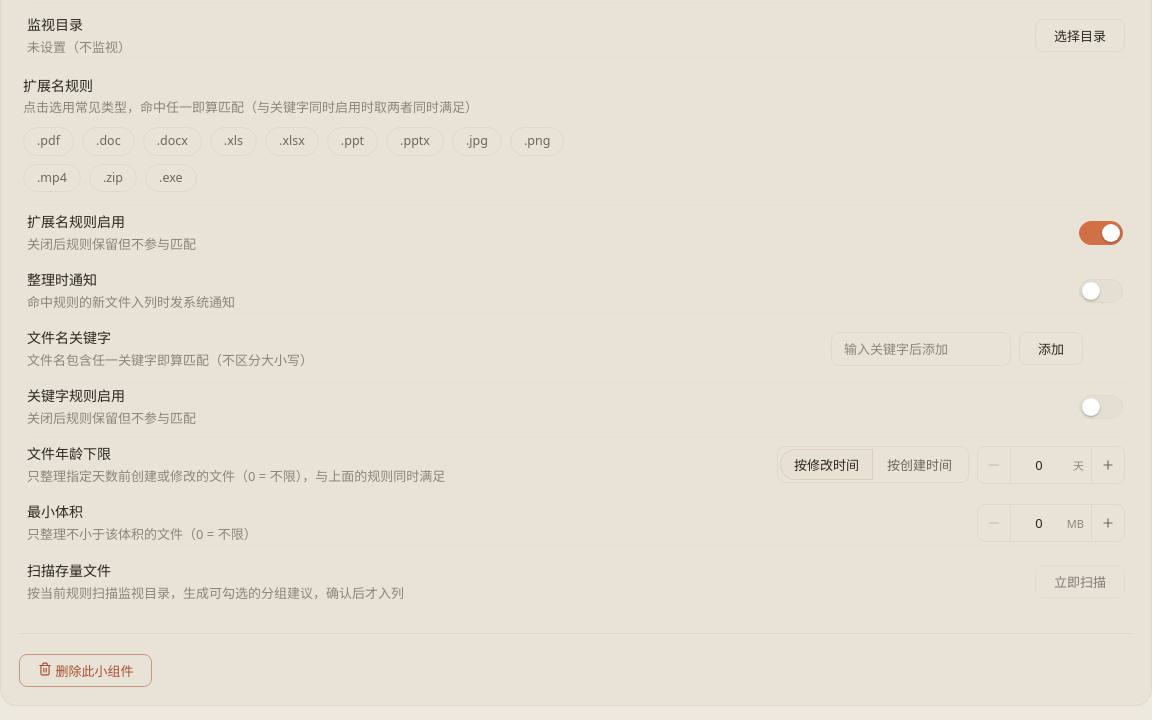
Test: AutoOrganizeEditor · Stepper 手输越界钳制（F4） › olderThanDays 手输 9999 → 3650（不静默归 0）；-3 → 0；非法文本不写库
(page scrolled)
Clear the field named "天" at point(1051, 465), box [1010,447,1092,483]
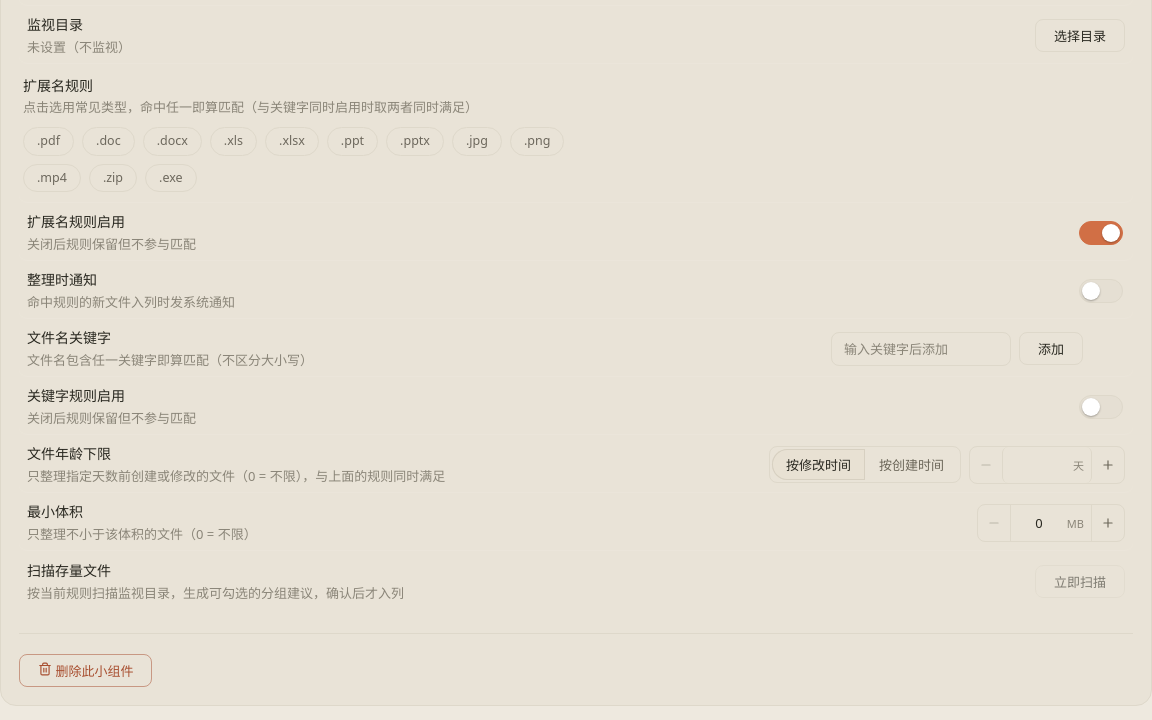
Type "9999" into the field named "天" at point(1047, 465), box [1002,447,1092,483]
Then press Enter
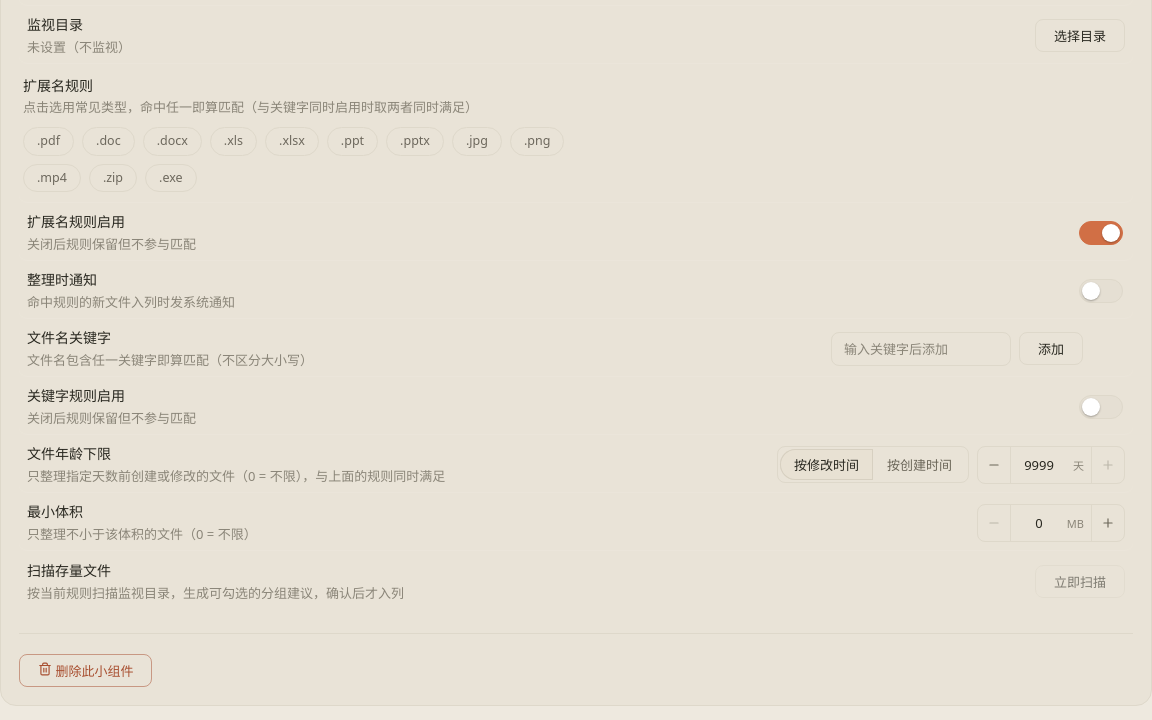
Clear the field named "天" at point(1051, 465), box [1010,447,1092,483]
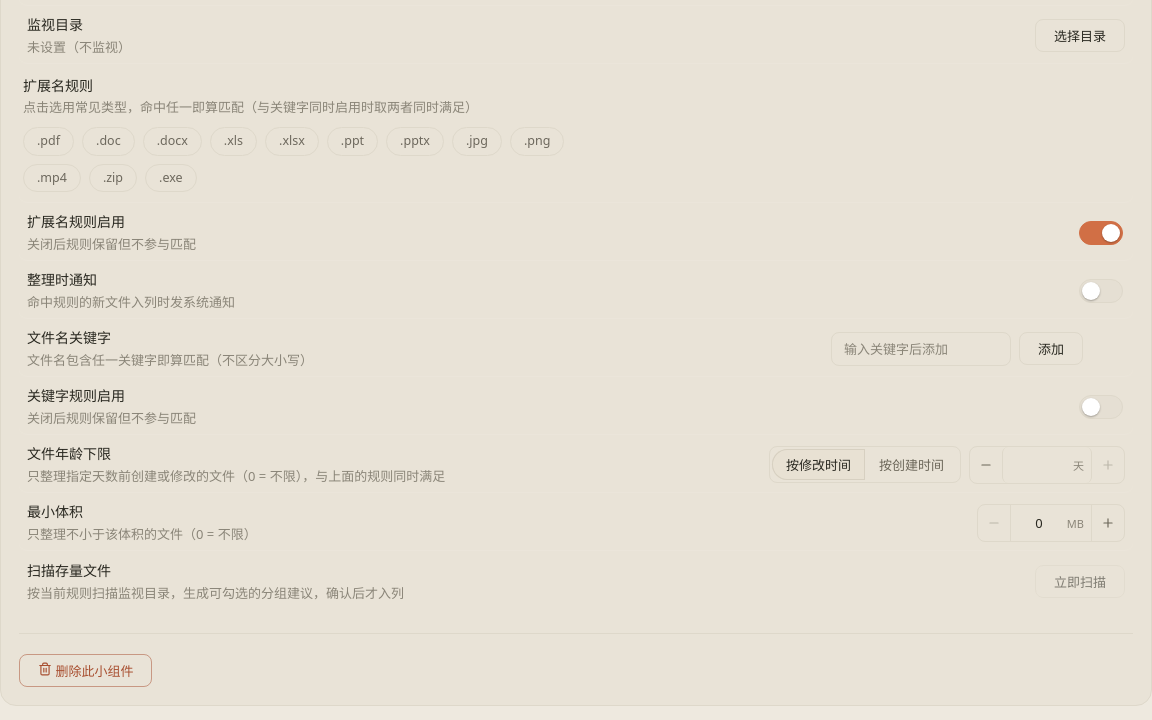
Type "-3" into the field named "天" at point(1047, 465), box [1002,447,1092,483]
Then press Enter
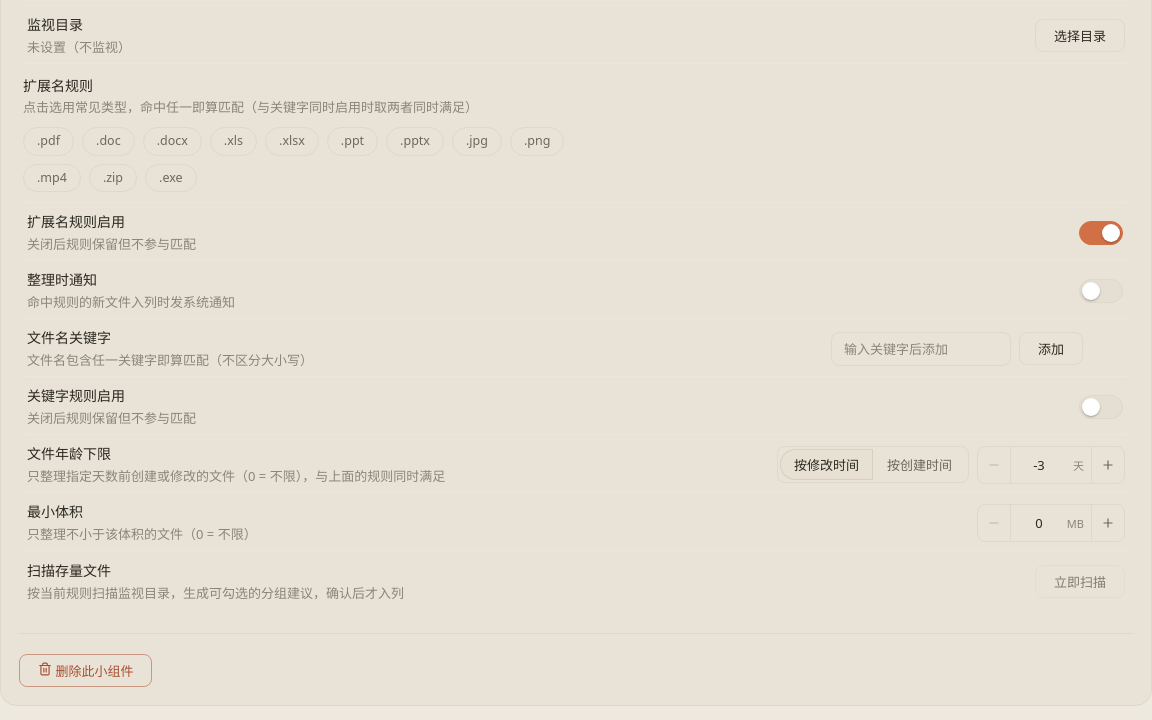
Note: 非数字：commit 不写库（shake 回退），配置保持上一合法值。
Clear the field named "天" at point(1051, 465), box [1010,447,1092,483]
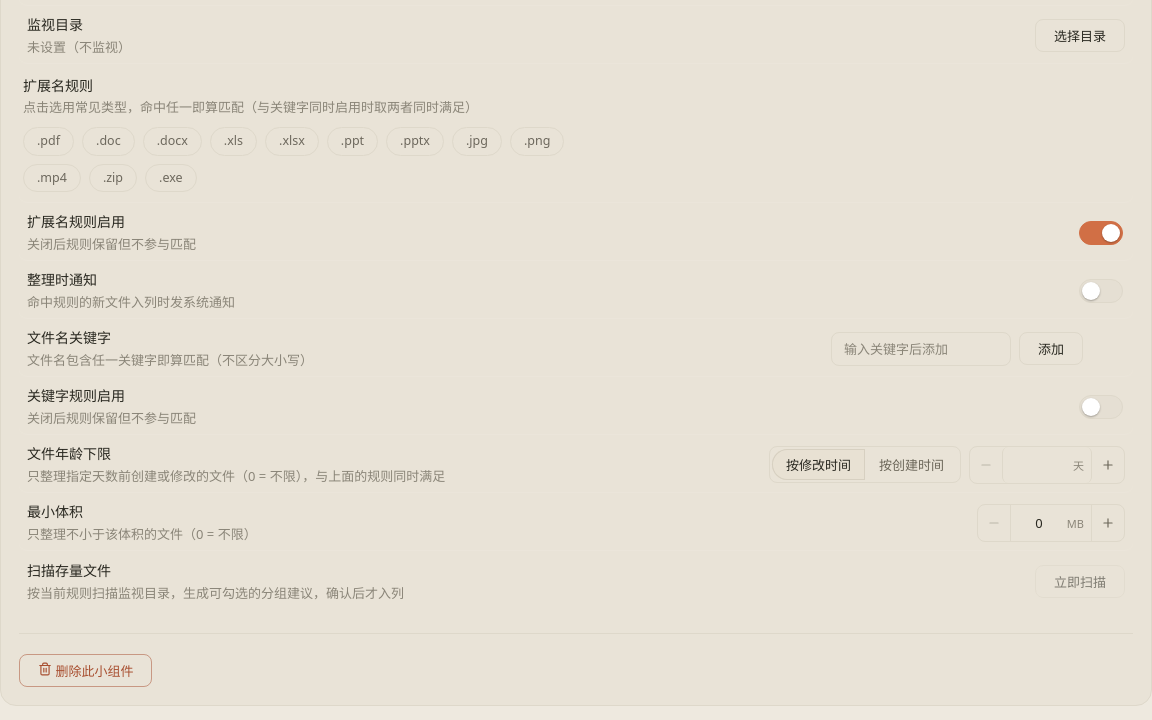
Type "abc" into the field named "天" at point(1047, 465), box [1002,447,1092,483]
Then press Enter
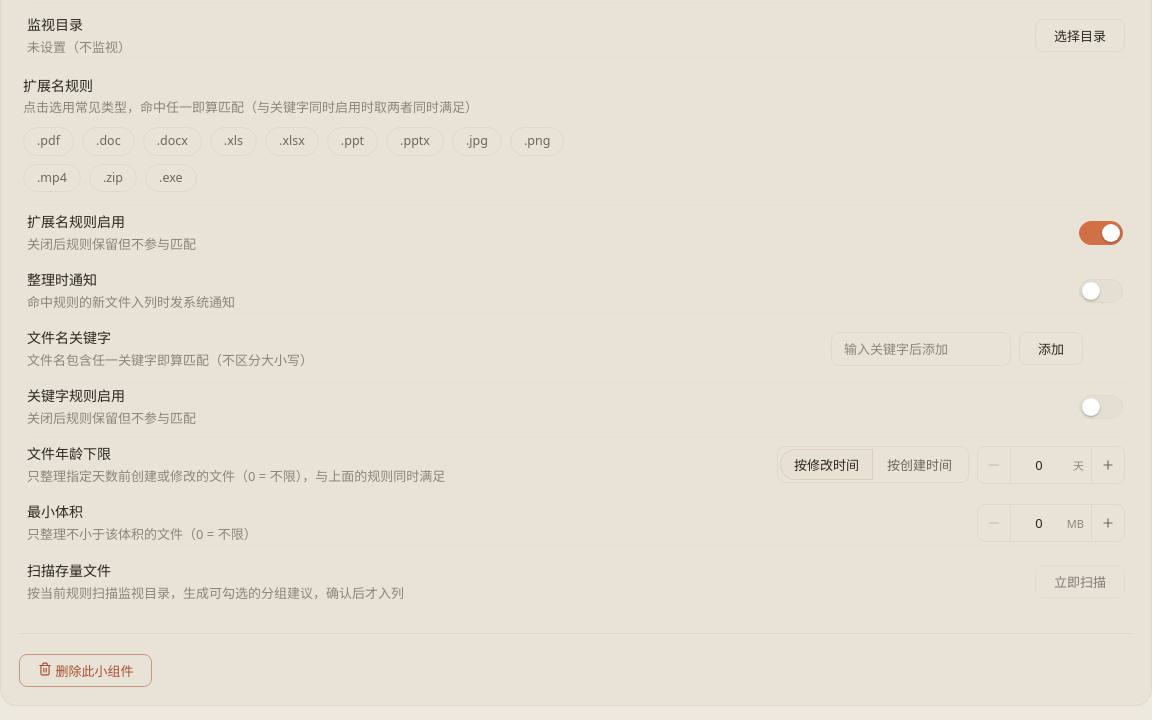
Result: the field named "天" holds "0" at [1010,447,1092,483]
